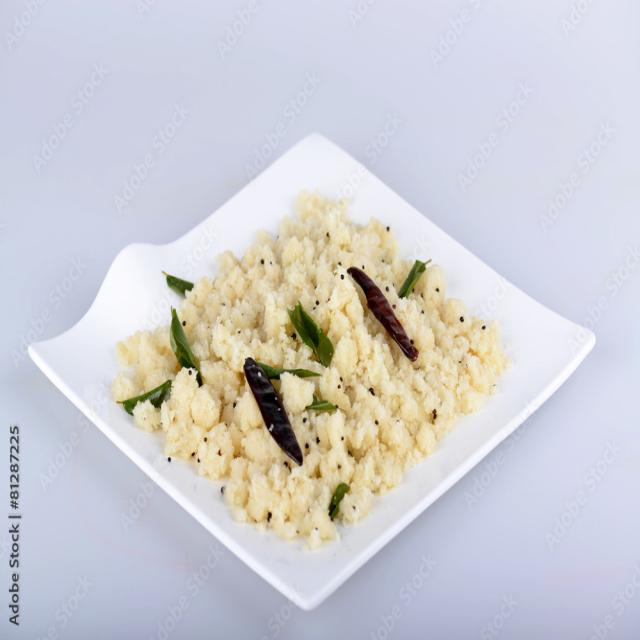UPMA: (112, 193, 509, 545)
